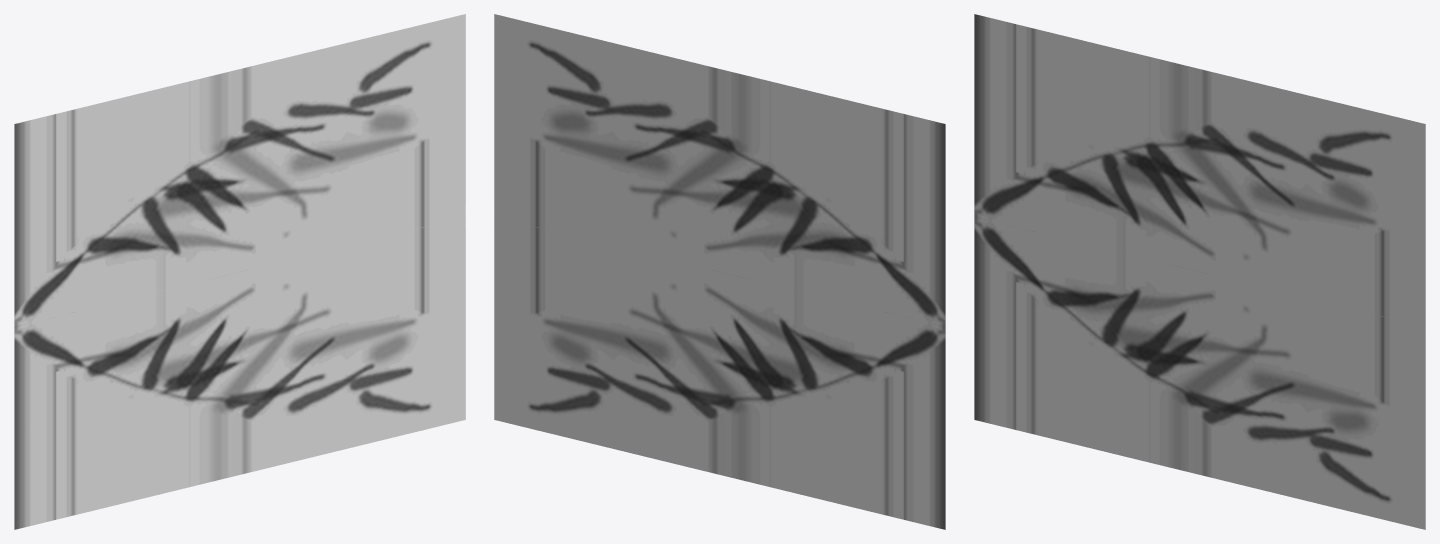
File: PPX_REED14.fbx
3 views of the same model, side by side, from view 1: azimuth 30°, elevation 25°; view 2: azimuth 150°, elevation 25°; view 3: azimuth 330°, elevation 25° (orthographic).
Parts seen in each view (by area): view 1: 图层 3.png, 图层 3.png_2; view 2: 图层 3.png, 图层 3.png_2; view 3: 图层 3.png, 图层 3.png_2.
Part boxes in pixels (x1,y1,x2,y2): 图层 3.png: (14, 14, 465, 326); 图层 3.png_2: (14, 217, 465, 529); 图层 3.png: (494, 14, 945, 326); 图层 3.png_2: (494, 217, 945, 529); 图层 3.png: (974, 14, 1425, 326); 图层 3.png_2: (974, 217, 1425, 529).
Bounding box in the file's own units: 258 × 0 × 222.
1 material, 1 textured.
